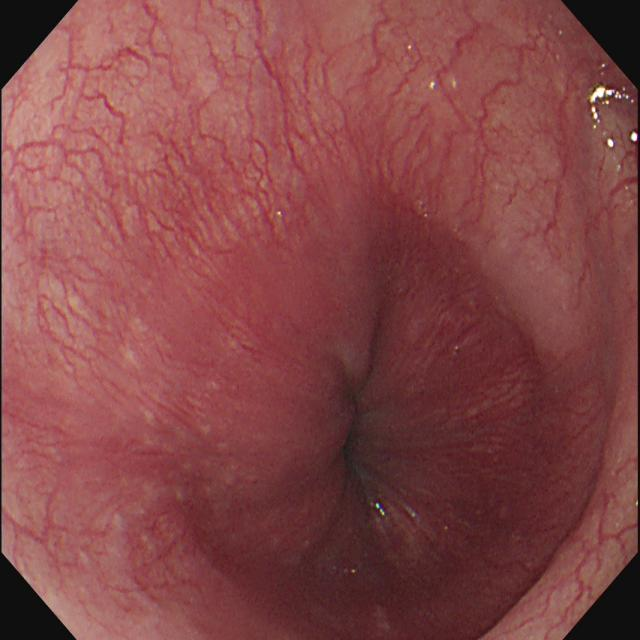I: (165, 177, 555, 630)
U: (588, 83, 635, 130), (606, 130, 639, 154)
